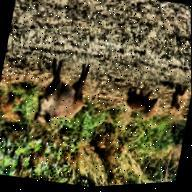boar: (35, 56, 100, 135), (110, 80, 163, 127), (163, 75, 192, 119)
